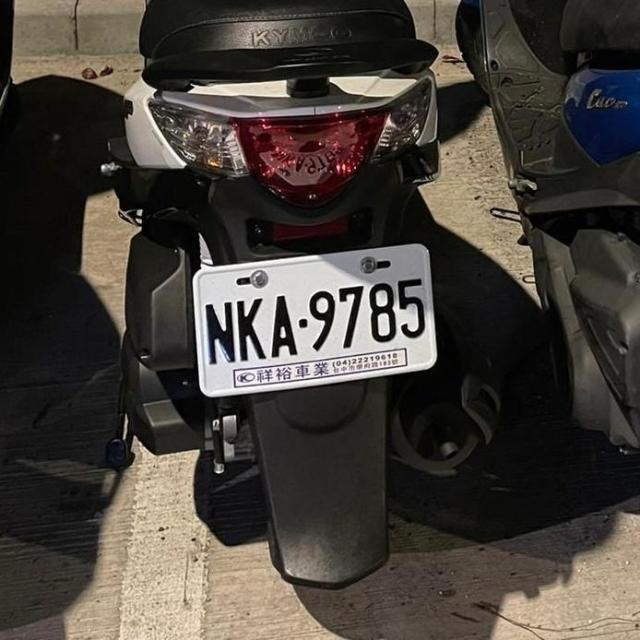W: (184, 237, 446, 402)
